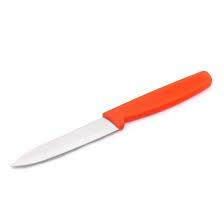Knife: (10, 69, 212, 168)
